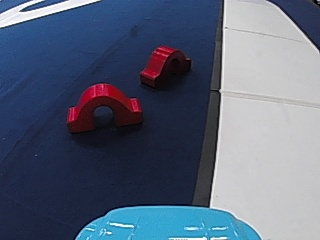bridge: (62, 79, 143, 132), (138, 43, 190, 90)
